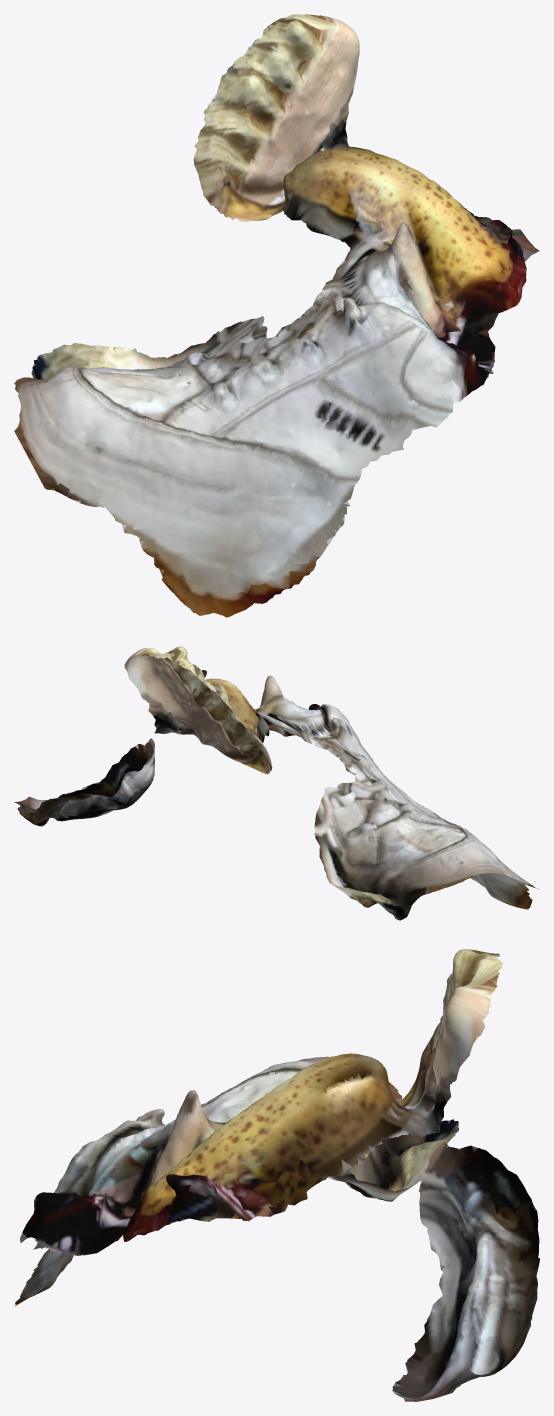
Rendered from eva.glb.
3 renders of one model, top to bottom at view 1: azimuth 30°, elevation 25°; view 2: azimuth 150°, elevation 25°; view 3: azimuth 270°, elevation 25°, orthographic. The views are drawn at different scales.
Parts seen in each view (by area): view 1: model.009; view 2: model.009; view 3: model.009.
Part boxes in pixels (box(x1,y1,x2,y2)): model.009: box(14, 14, 539, 617); model.009: box(14, 646, 539, 920); model.009: box(15, 949, 539, 1401).
Bounding box in the file's own units: 5.71 × 3.82 × 3.71.
Materials: 1 (1 with a texture image).
